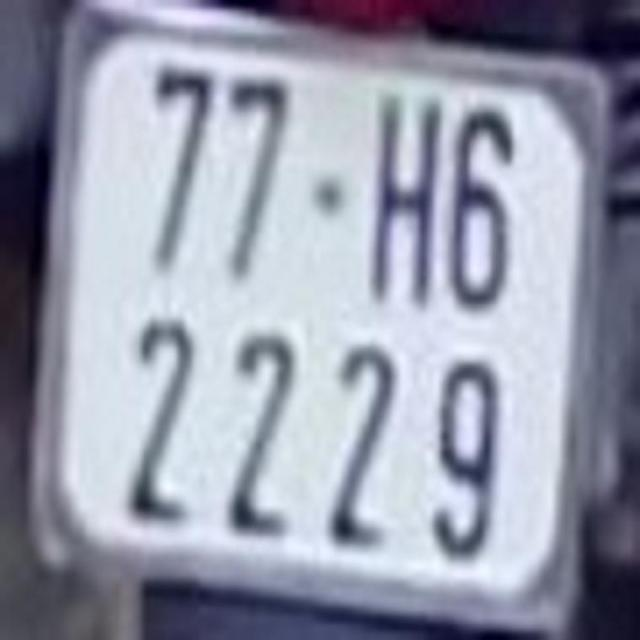2: (224, 332, 294, 535), (130, 320, 193, 528), (339, 340, 393, 550)
6: (451, 110, 517, 308)
7: (156, 66, 216, 281), (232, 80, 290, 275)
9: (433, 357, 498, 558)
H: (368, 87, 436, 308)
